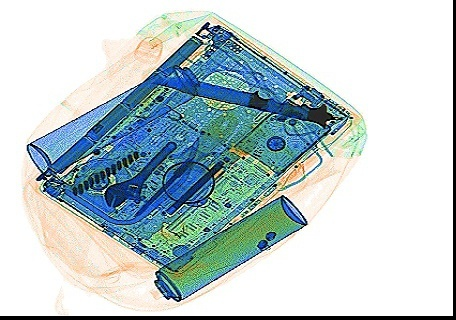knife: (148, 76, 337, 129)
pressure: (22, 63, 200, 177), (148, 190, 307, 302)
